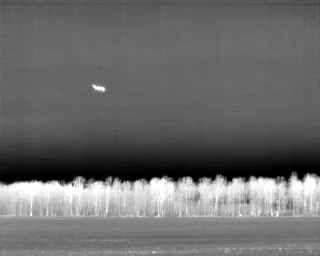DRONE: (88, 80, 109, 97)
